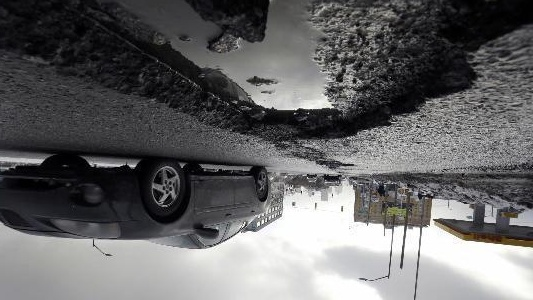pothole: (0, 0, 532, 146)
